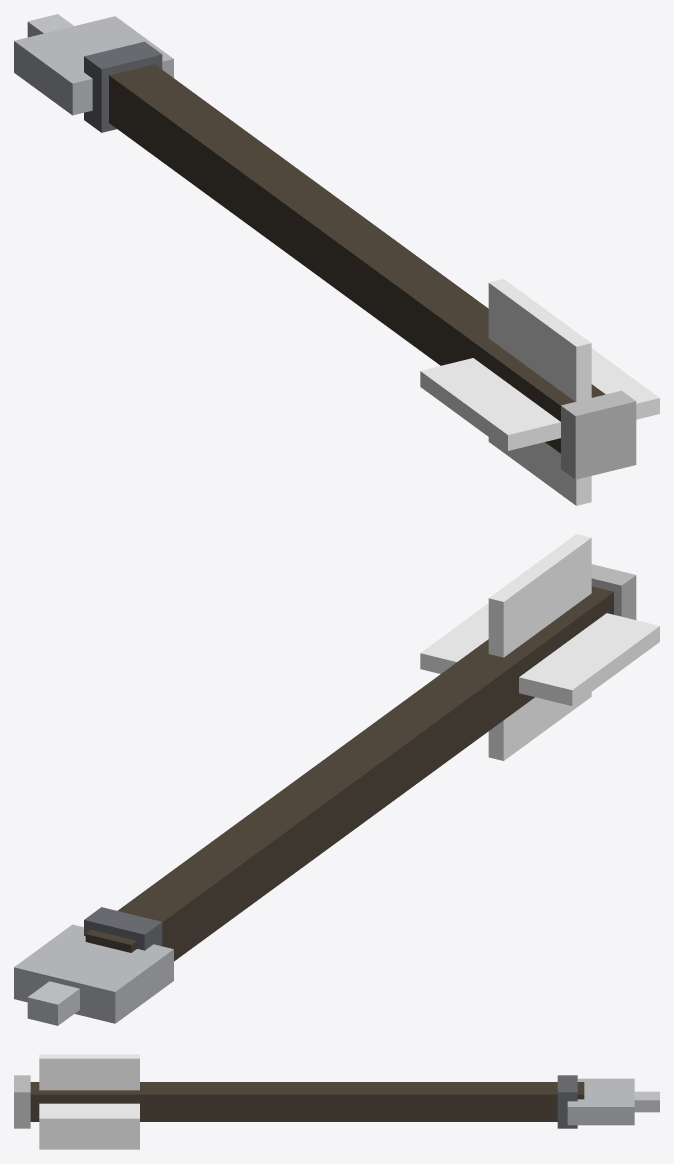
Rendered from CROSSBOW.gltf.
3 views of the same model, one above another, from view 1: azimuth 30°, elevation 25°; view 2: azimuth 150°, elevation 25°; view 3: azimuth 270°, elevation 25° (orthographic). The views are drawn at different scales.
Visible parts, largest first — view 1: CROSSBOW; view 2: CROSSBOW; view 3: CROSSBOW.
Part boxes in pixels (x1,y1,x2,y2): CROSSBOW: [14, 14, 659, 505]; CROSSBOW: [14, 534, 659, 1025]; CROSSBOW: [14, 1054, 659, 1149].
Size of the model in its own units: 0.12 by 0.12 by 0.77.
